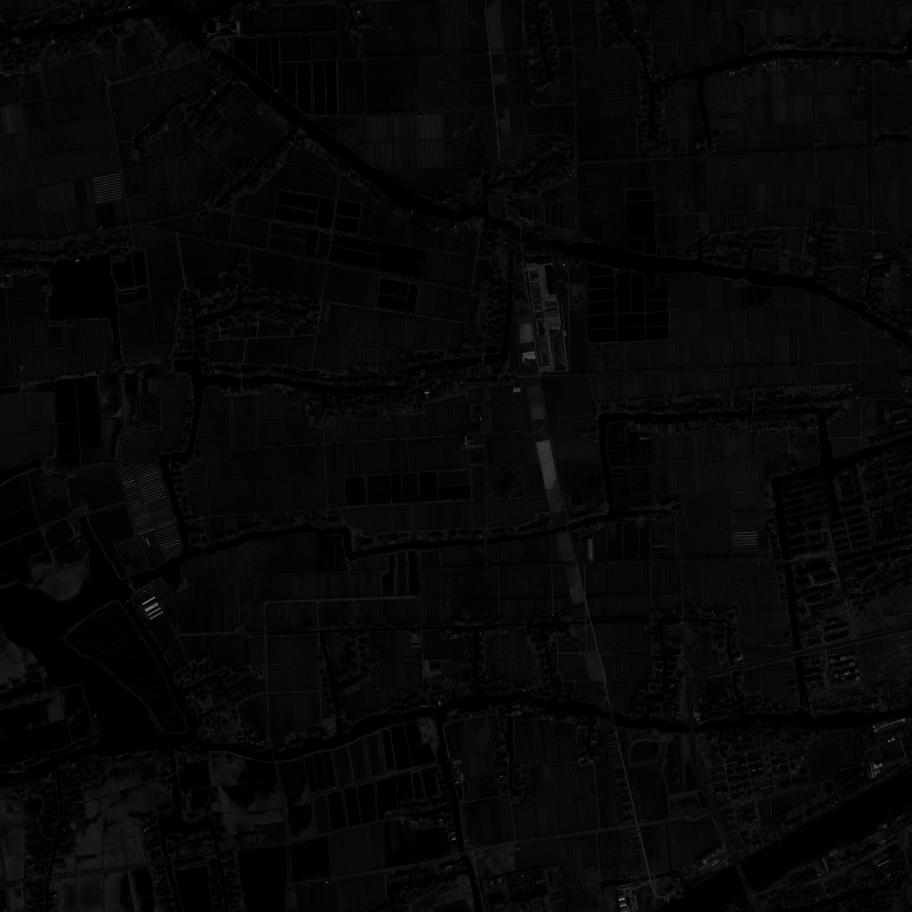ship: (676, 896, 687, 900)
